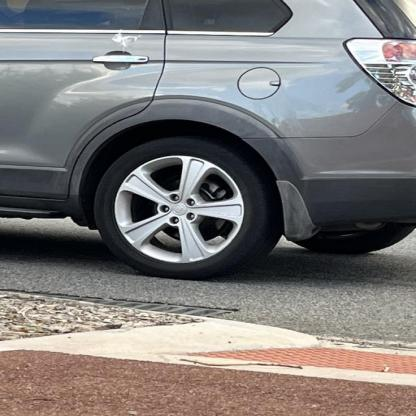Tire: (93, 136, 283, 279)
